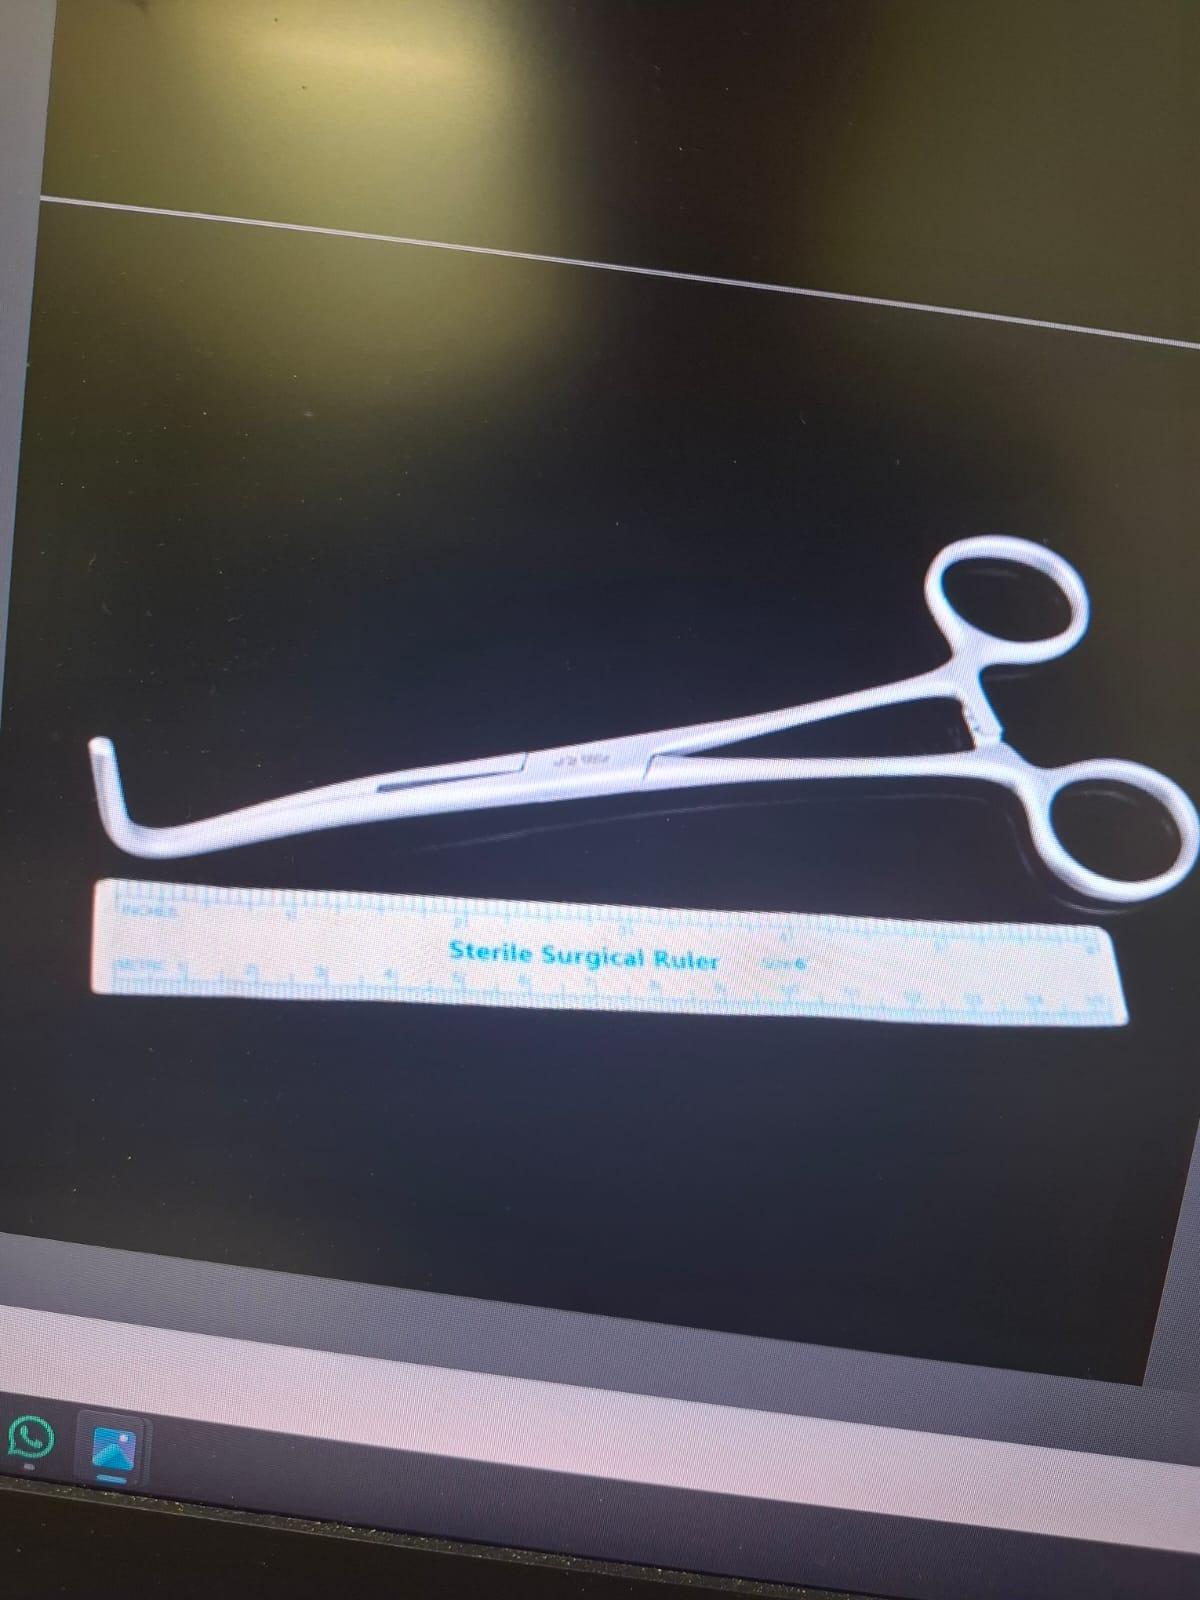Rectangle Cholecystectomy Forceps: (80, 530, 1200, 952)
